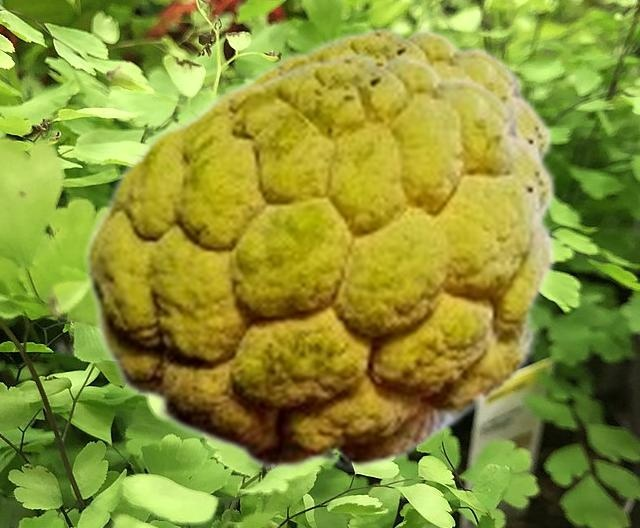atis: (81, 50, 557, 470), (199, 25, 553, 223)
